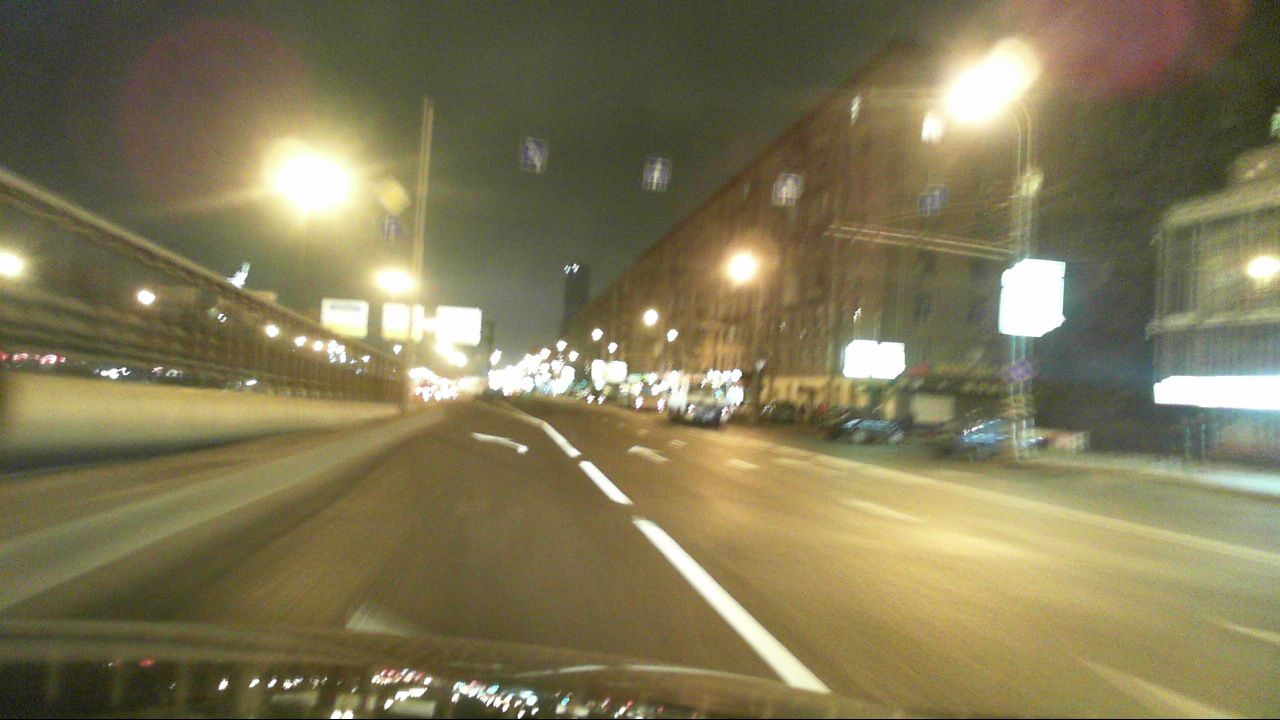No Parking: (1011, 360, 1031, 381)
